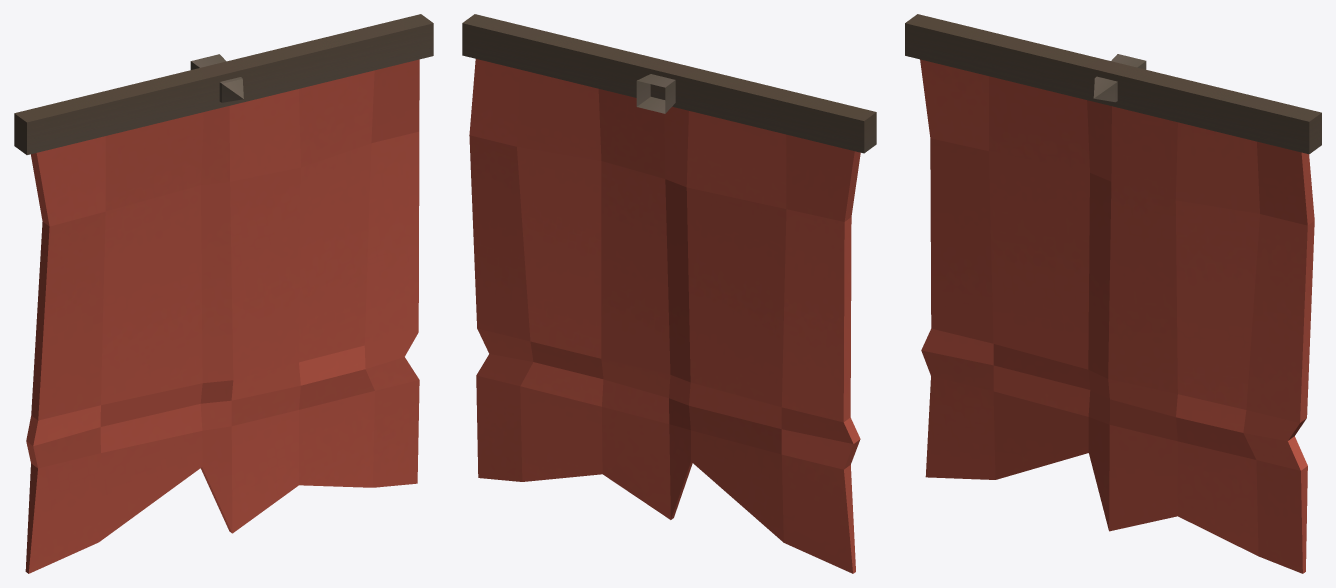
Rendered from Cloth_1.fbx.
3 views of the same model, side by side, from view 1: azimuth 30°, elevation 25°; view 2: azimuth 150°, elevation 25°; view 3: azimuth 330°, elevation 25° (orthographic).
Visible parts, largest first — view 1: pCube790; view 2: pCube790; view 3: pCube790.
Part boxes in pixels (x1=…): pCube790: x1=14, y1=14, x2=433, y2=573; pCube790: x1=462, y1=14, x2=876, y2=573; pCube790: x1=905, y1=14, x2=1321, y2=573.
Size of the model in its own units: 130 by 141 by 21.39.
